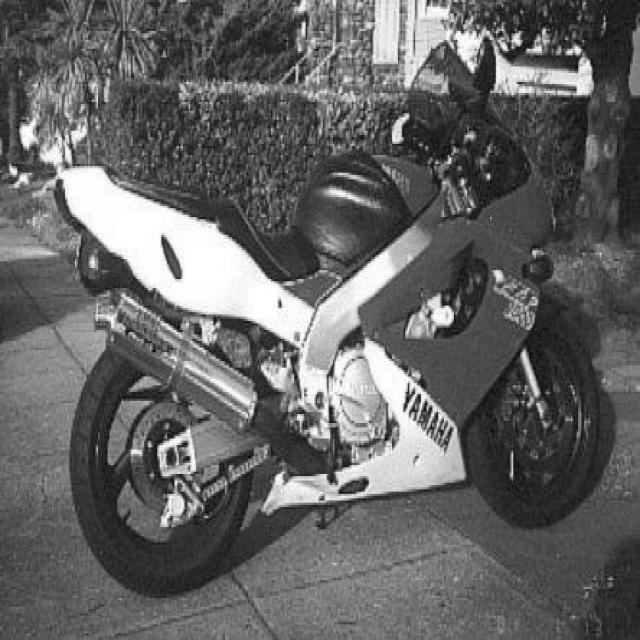Motorcycle: (55, 46, 601, 594)
